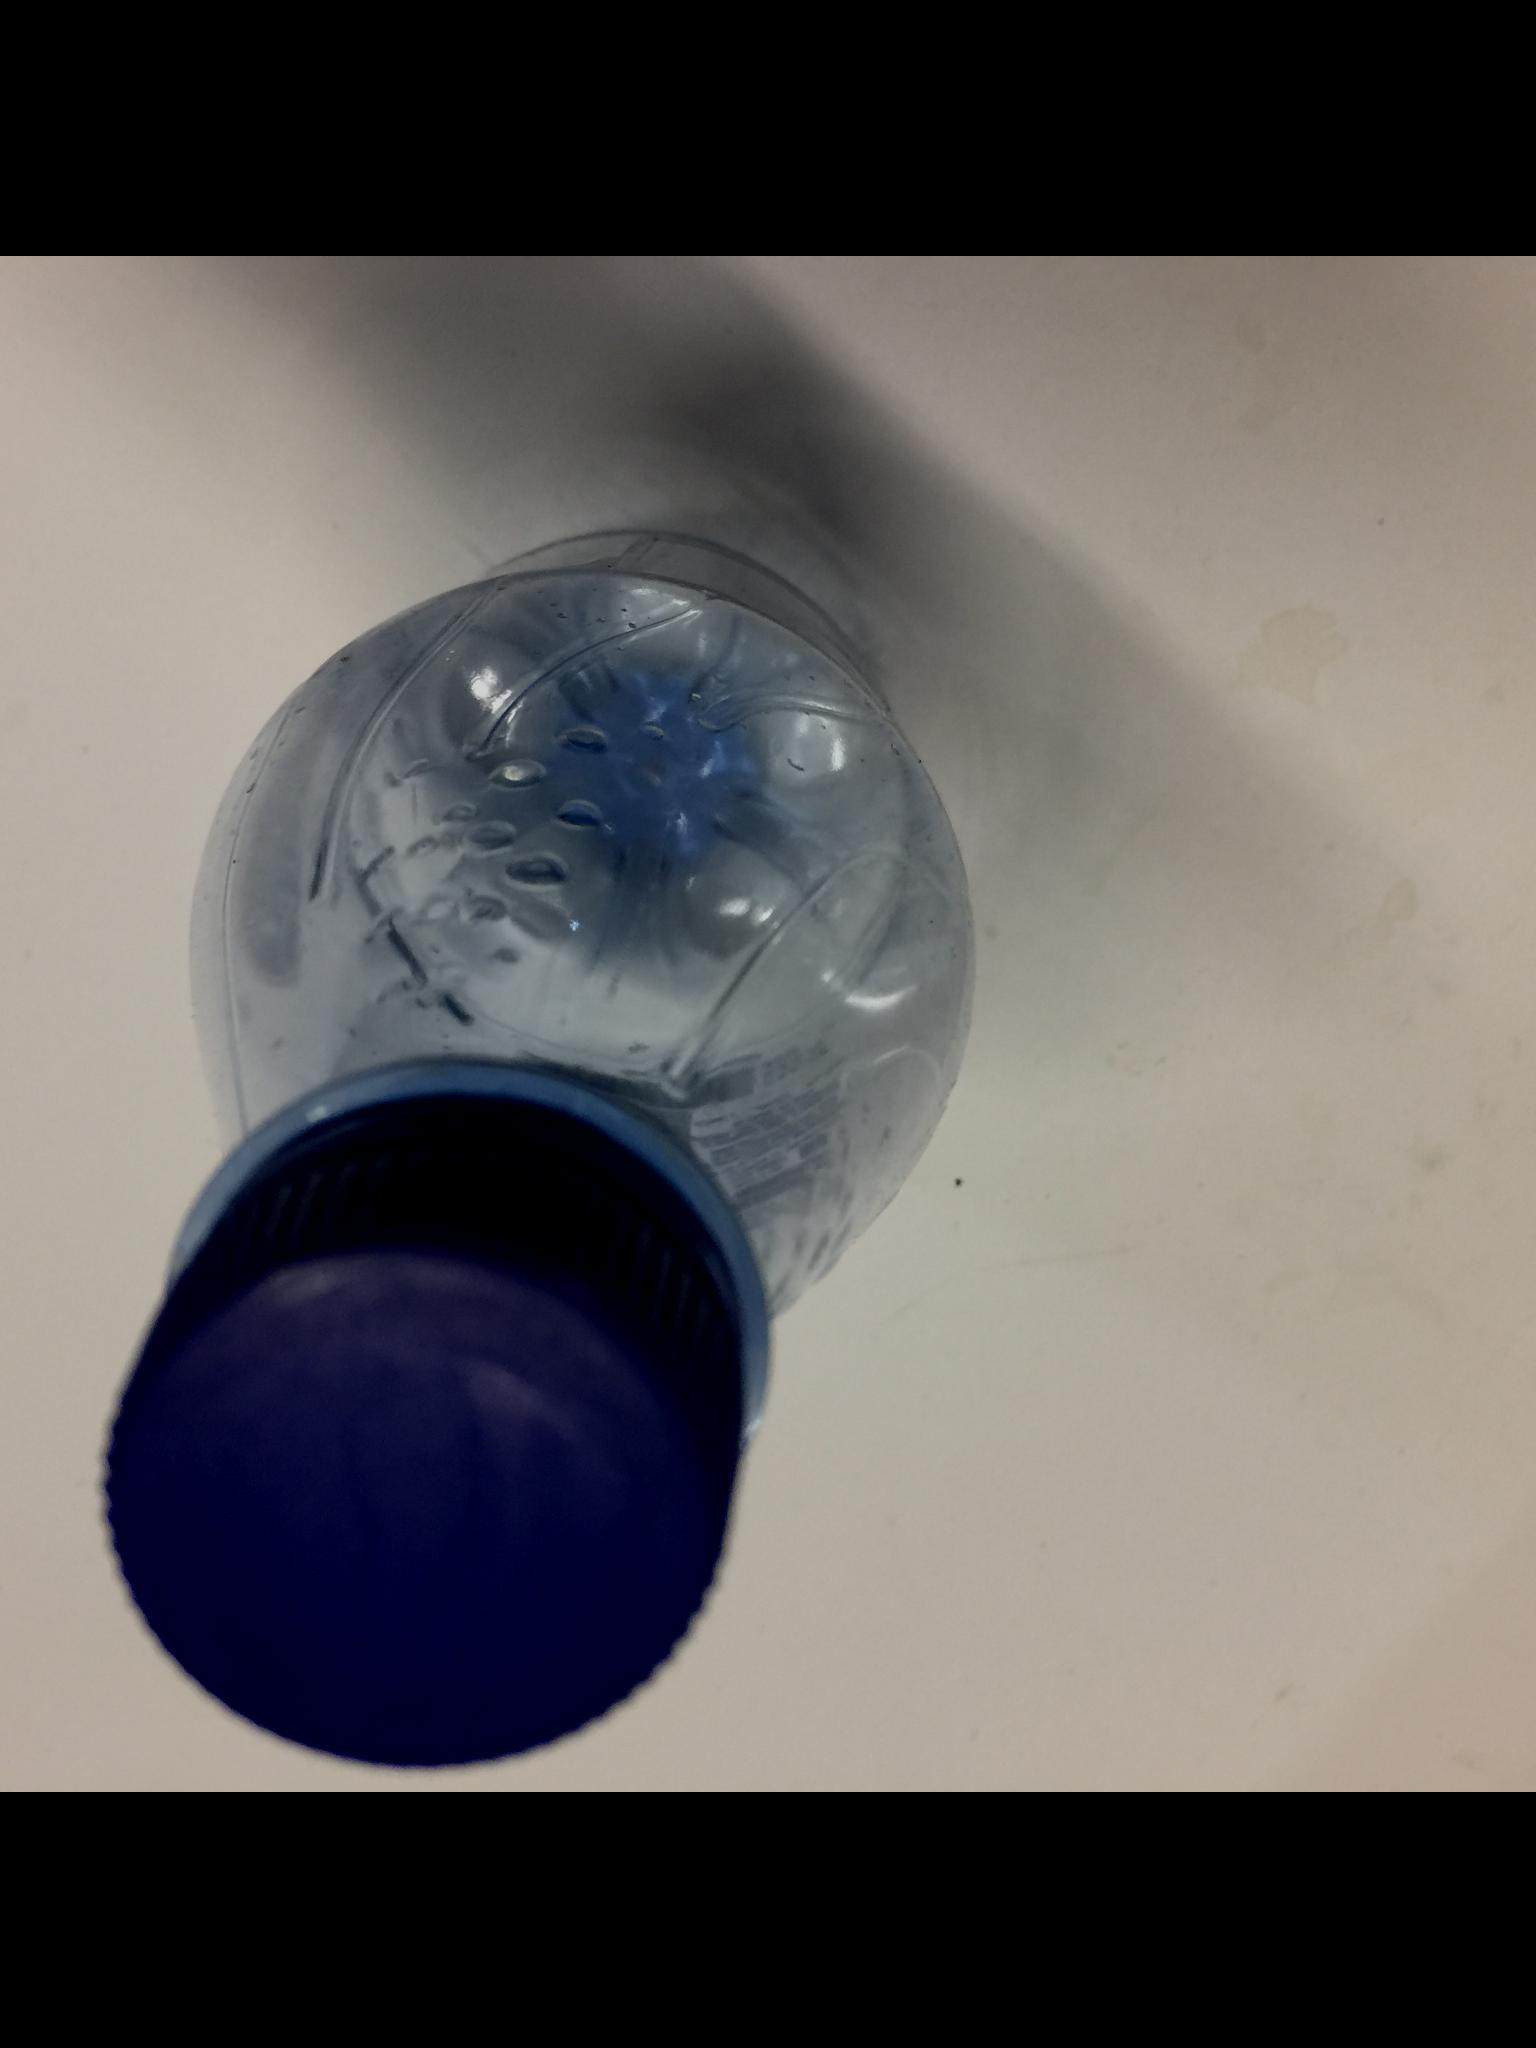Plastic: (11, 529, 997, 1792)
